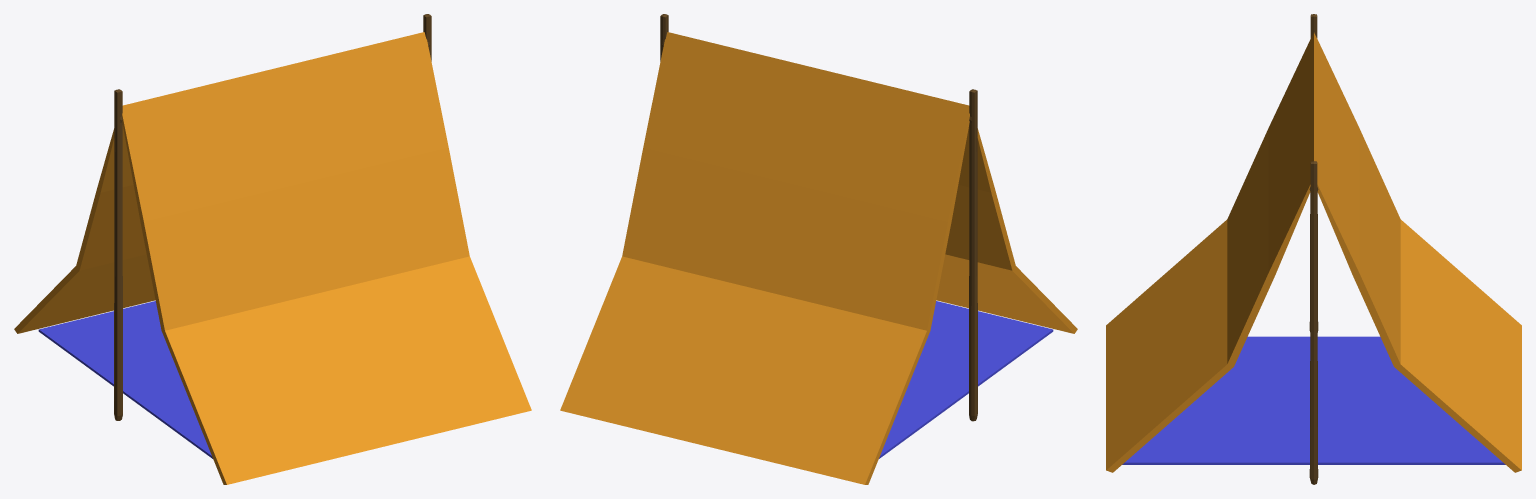
Rendered from tent.fbx.
3 views of the same model, side by side, from view 1: azimuth 30°, elevation 25°; view 2: azimuth 150°, elevation 25°; view 3: azimuth 270°, elevation 25° (orthographic). The views are drawn at different scales.
Parts seen in each view (by area): view 1: Tent; view 2: Tent; view 3: Tent.
Boxes of the visible parts, bbox=[...] form: Tent: bbox=[14, 14, 531, 484]; Tent: bbox=[560, 14, 1077, 484]; Tent: bbox=[1106, 14, 1521, 484].
Size of the model in its own units: 104 by 104 by 121.
